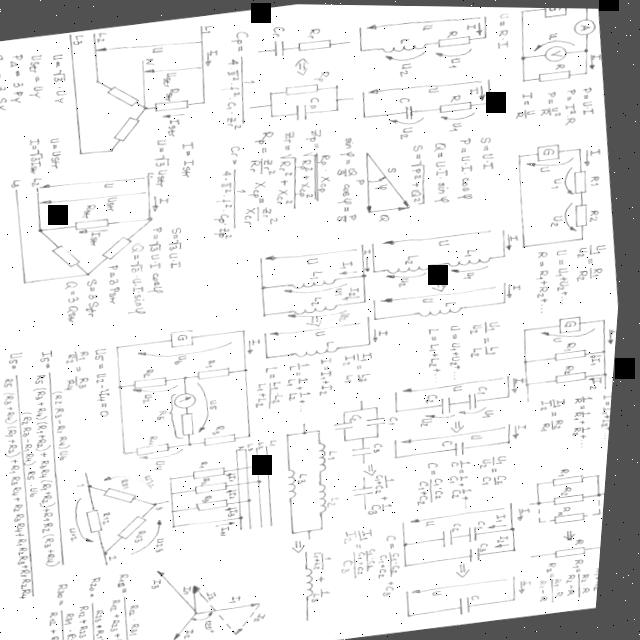capacitor: (351, 480, 384, 505), (264, 33, 290, 64), (291, 97, 318, 124), (459, 593, 490, 616), (469, 543, 497, 567), (469, 521, 498, 543), (439, 526, 468, 548), (368, 411, 399, 430), (452, 437, 479, 458), (468, 388, 490, 412), (356, 443, 385, 461), (398, 99, 421, 121), (338, 416, 365, 433), (442, 392, 461, 416)
inductor: (288, 297, 352, 324), (415, 300, 478, 321), (288, 273, 349, 294), (293, 337, 351, 359), (384, 257, 439, 280), (285, 463, 315, 502), (444, 251, 502, 270), (378, 37, 433, 57), (317, 478, 344, 518), (302, 564, 329, 602), (317, 435, 342, 475)
node: (104, 547, 121, 558), (511, 523, 530, 532), (247, 494, 263, 504), (143, 213, 159, 223), (523, 356, 538, 366), (267, 460, 284, 468), (604, 345, 616, 356), (526, 379, 540, 388), (244, 364, 258, 372), (580, 45, 592, 54), (600, 489, 612, 498), (240, 514, 252, 523), (517, 51, 529, 60), (91, 479, 100, 490), (155, 502, 167, 510), (38, 226, 48, 235), (262, 476, 273, 484), (409, 539, 421, 546), (305, 427, 315, 435), (121, 383, 134, 389), (605, 369, 617, 375), (184, 373, 195, 379)
resistor: (97, 230, 143, 266), (105, 112, 152, 145), (100, 80, 147, 112), (120, 513, 165, 545), (103, 482, 151, 509), (51, 242, 90, 272), (550, 366, 598, 388), (436, 94, 481, 117), (293, 33, 337, 56), (431, 30, 476, 52), (151, 93, 195, 115), (193, 462, 239, 483), (553, 507, 599, 528), (551, 468, 599, 488), (557, 540, 600, 562), (280, 79, 327, 99), (70, 215, 120, 233), (88, 504, 118, 534), (196, 479, 242, 498), (199, 363, 240, 384), (199, 494, 242, 514), (205, 428, 250, 447), (533, 65, 578, 84), (553, 344, 598, 363), (571, 164, 598, 195), (180, 410, 206, 442), (570, 198, 597, 228), (136, 374, 179, 392), (557, 488, 599, 506), (141, 440, 183, 457)
source: (541, 41, 571, 64)
